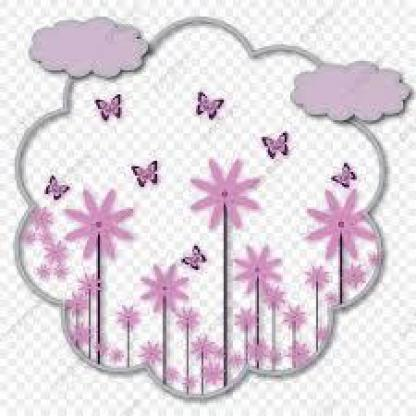Kenanga: (313, 229, 380, 288)
